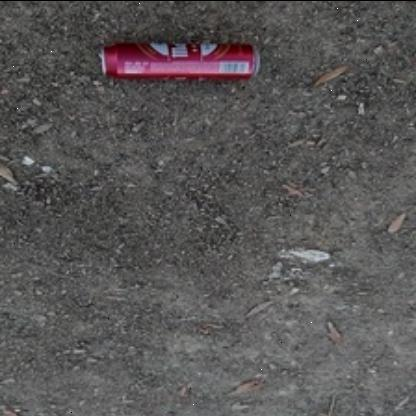Can: (101, 38, 258, 80)
